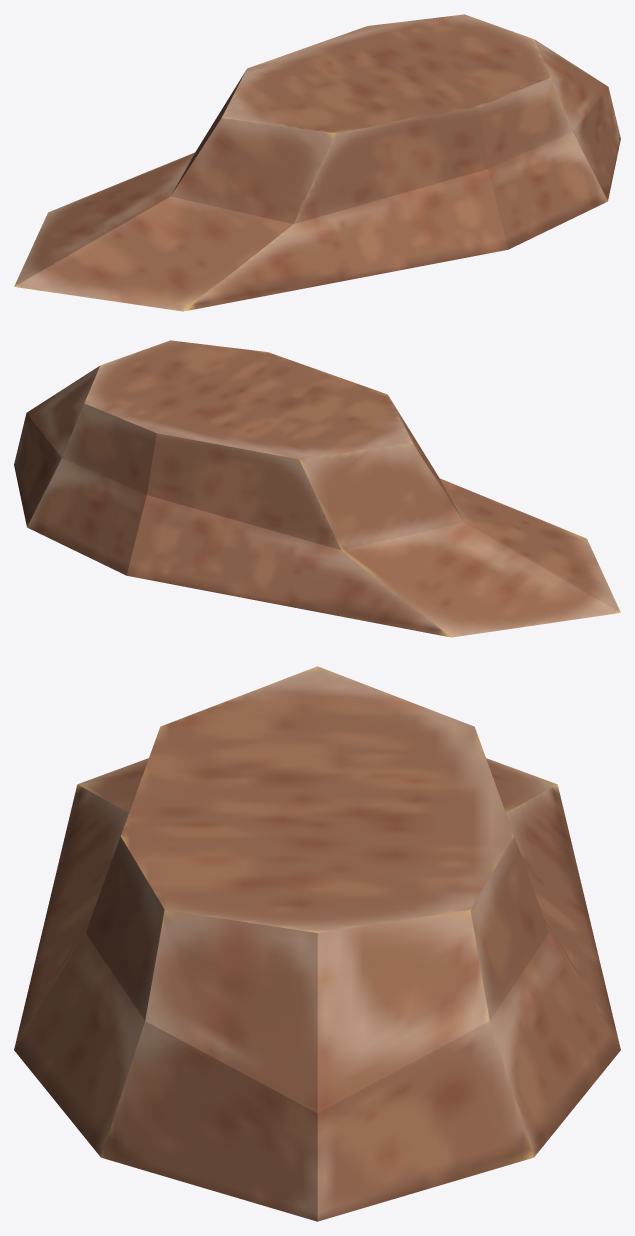
Rendered from Rock_1.fbx.
The picture shows the model from 3 angles, top to bottom: view 1: azimuth 30°, elevation 25°; view 2: azimuth 150°, elevation 25°; view 3: azimuth 270°, elevation 25°; orthographic projection. The views are drawn at different scales.
Parts seen in each view (by area): view 1: Rock_1; view 2: Rock_1; view 3: Rock_1.
Boxes of the visible parts, box(x1,y1,x2,y2) form: Rock_1: box(14, 14, 620, 311); Rock_1: box(14, 340, 620, 637); Rock_1: box(14, 666, 620, 1221).
Size of the model in its own units: 195 by 36.99 by 95.19.
